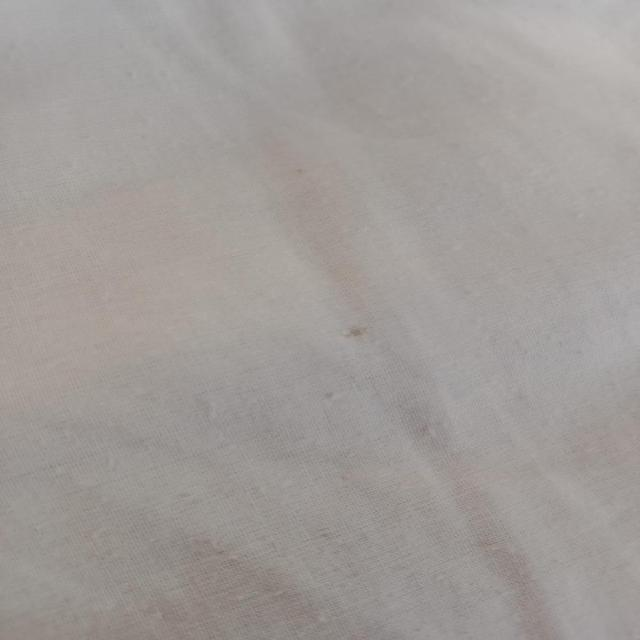stain: (339, 316, 381, 346)
